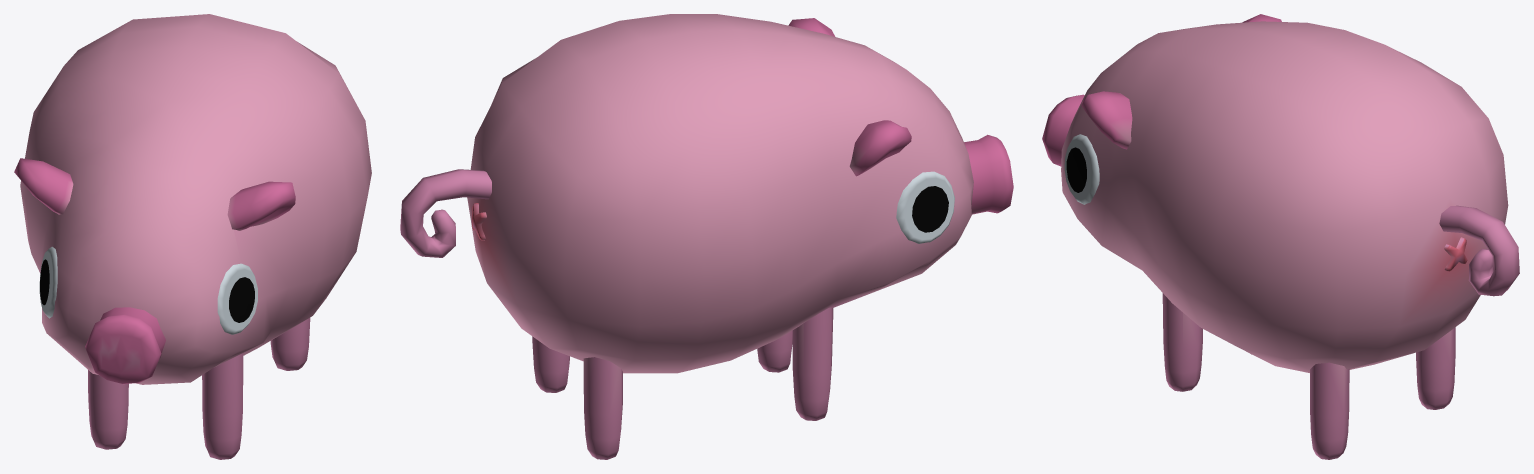
The model's file is Pig.glb.
3 views of the same model, side by side, from view 1: azimuth 30°, elevation 25°; view 2: azimuth 150°, elevation 25°; view 3: azimuth 270°, elevation 25° (orthographic). The views are drawn at different scales.
Parts seen in each view (by area): view 1: 122; view 2: 122; view 3: 122.
Part boxes in pixels (x1,y1,x2,y2): 122: (14,14,371,459); 122: (400,14,1013,459); 122: (1042,14,1519,459).
Bounding box in the file's own units: 0.7996 × 0.717 × 0.8635.
